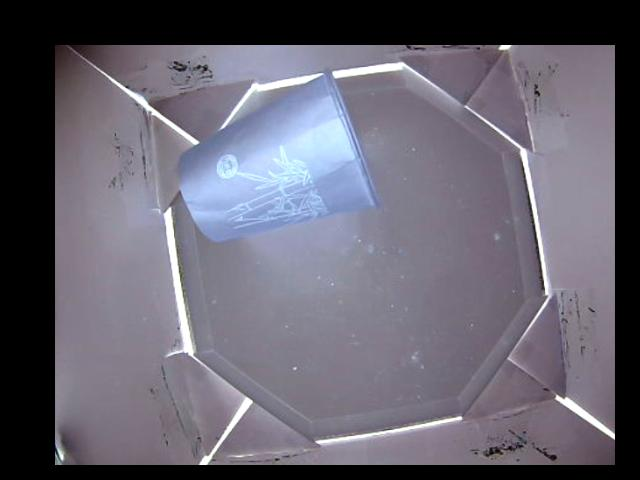Cup: (176, 66, 376, 241)
